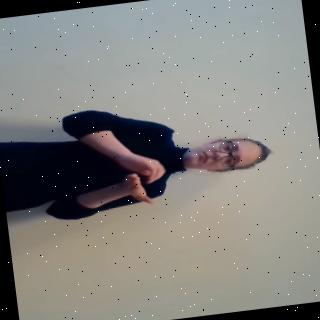ExcuseMe: (0, 92, 276, 226)
